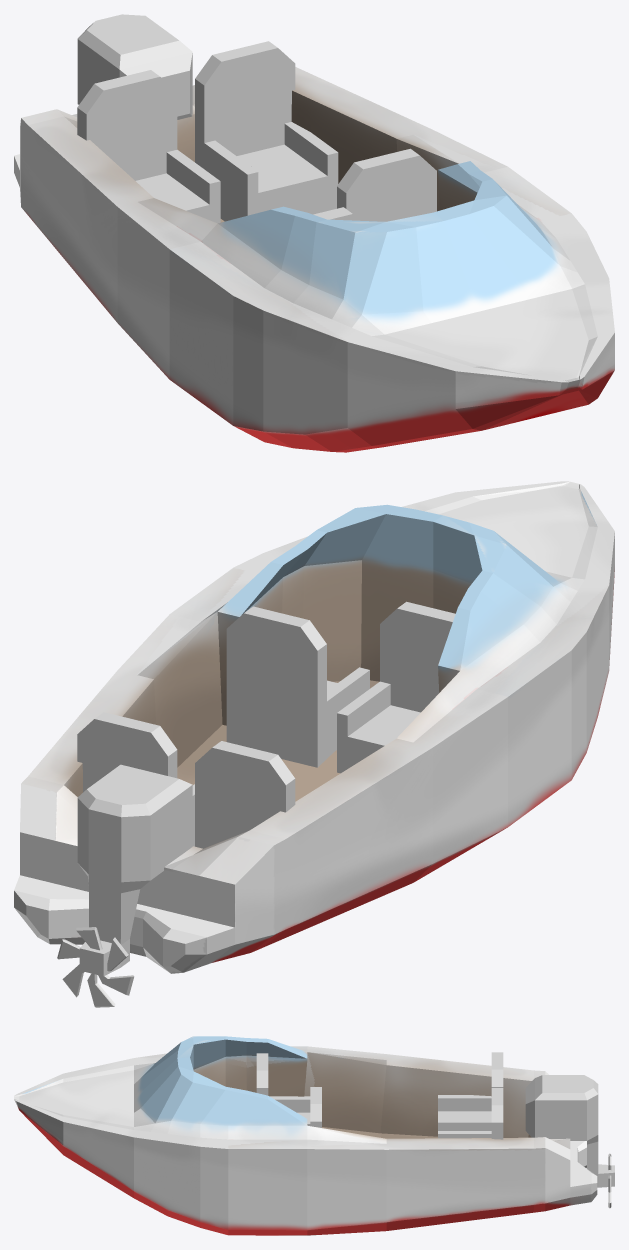
The model's file is Boat.fbx.
The picture shows the model from 3 angles, top to bottom: view 1: azimuth 30°, elevation 25°; view 2: azimuth 150°, elevation 25°; view 3: azimuth 270°, elevation 25°; orthographic projection. The views are drawn at different scales.
Visible parts, largest first — view 1: Cube, Cube.003, Cube.002, Cube.001, Cube.005; view 2: Cube, Cube.005, Cube.001, Cube.004, Cube.002, Cube.003, Circle; view 3: Cube, Cube.001, Cube.002, Cube.004, Cube.003, Cube.005.
Part boxes in pixels (box(x1,y1,x2,y2)): Cube: box(14, 67, 614, 452); Cube.003: box(195, 41, 338, 221); Cube.002: box(77, 70, 220, 223); Cube.001: box(77, 14, 192, 119); Cube.005: box(337, 148, 436, 221); Cube: box(14, 481, 614, 973); Cube.005: box(226, 606, 369, 767); Cube.001: box(77, 764, 192, 976); Cube.004: box(337, 601, 455, 773); Cube.002: box(195, 741, 295, 848); Cube.003: box(77, 712, 194, 846); Circle: box(57, 927, 134, 1007); Cube: box(14, 1036, 597, 1235); Cube.001: box(525, 1075, 614, 1187); Cube.002: box(438, 1052, 503, 1130); Cube.004: box(256, 1053, 310, 1125); Cube.003: box(438, 1088, 503, 1139); Cube.005: box(310, 1087, 321, 1127).
Bounding box in the file's own units: 307 × 207 × 760.
1 material, 1 textured.
